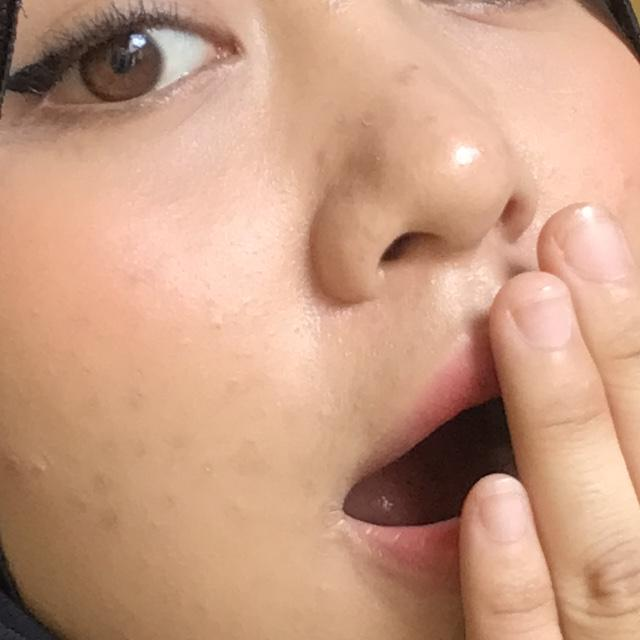ngantuk: (340, 246, 640, 640)
